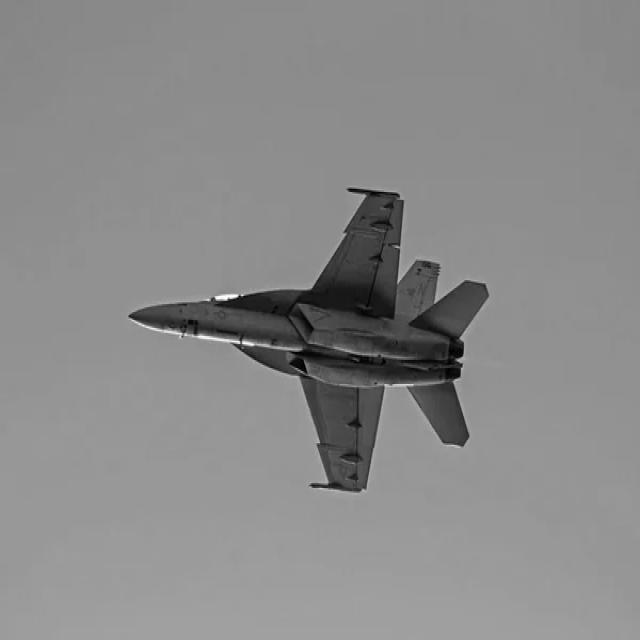Aircraft: (119, 174, 488, 501)
